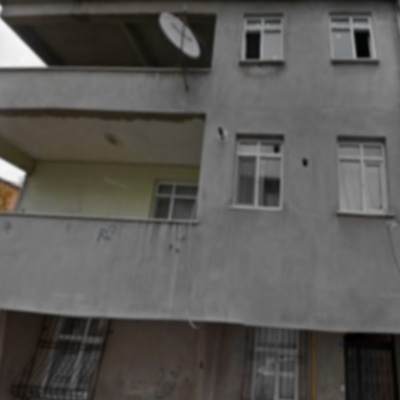door: (341, 345, 400, 400)
